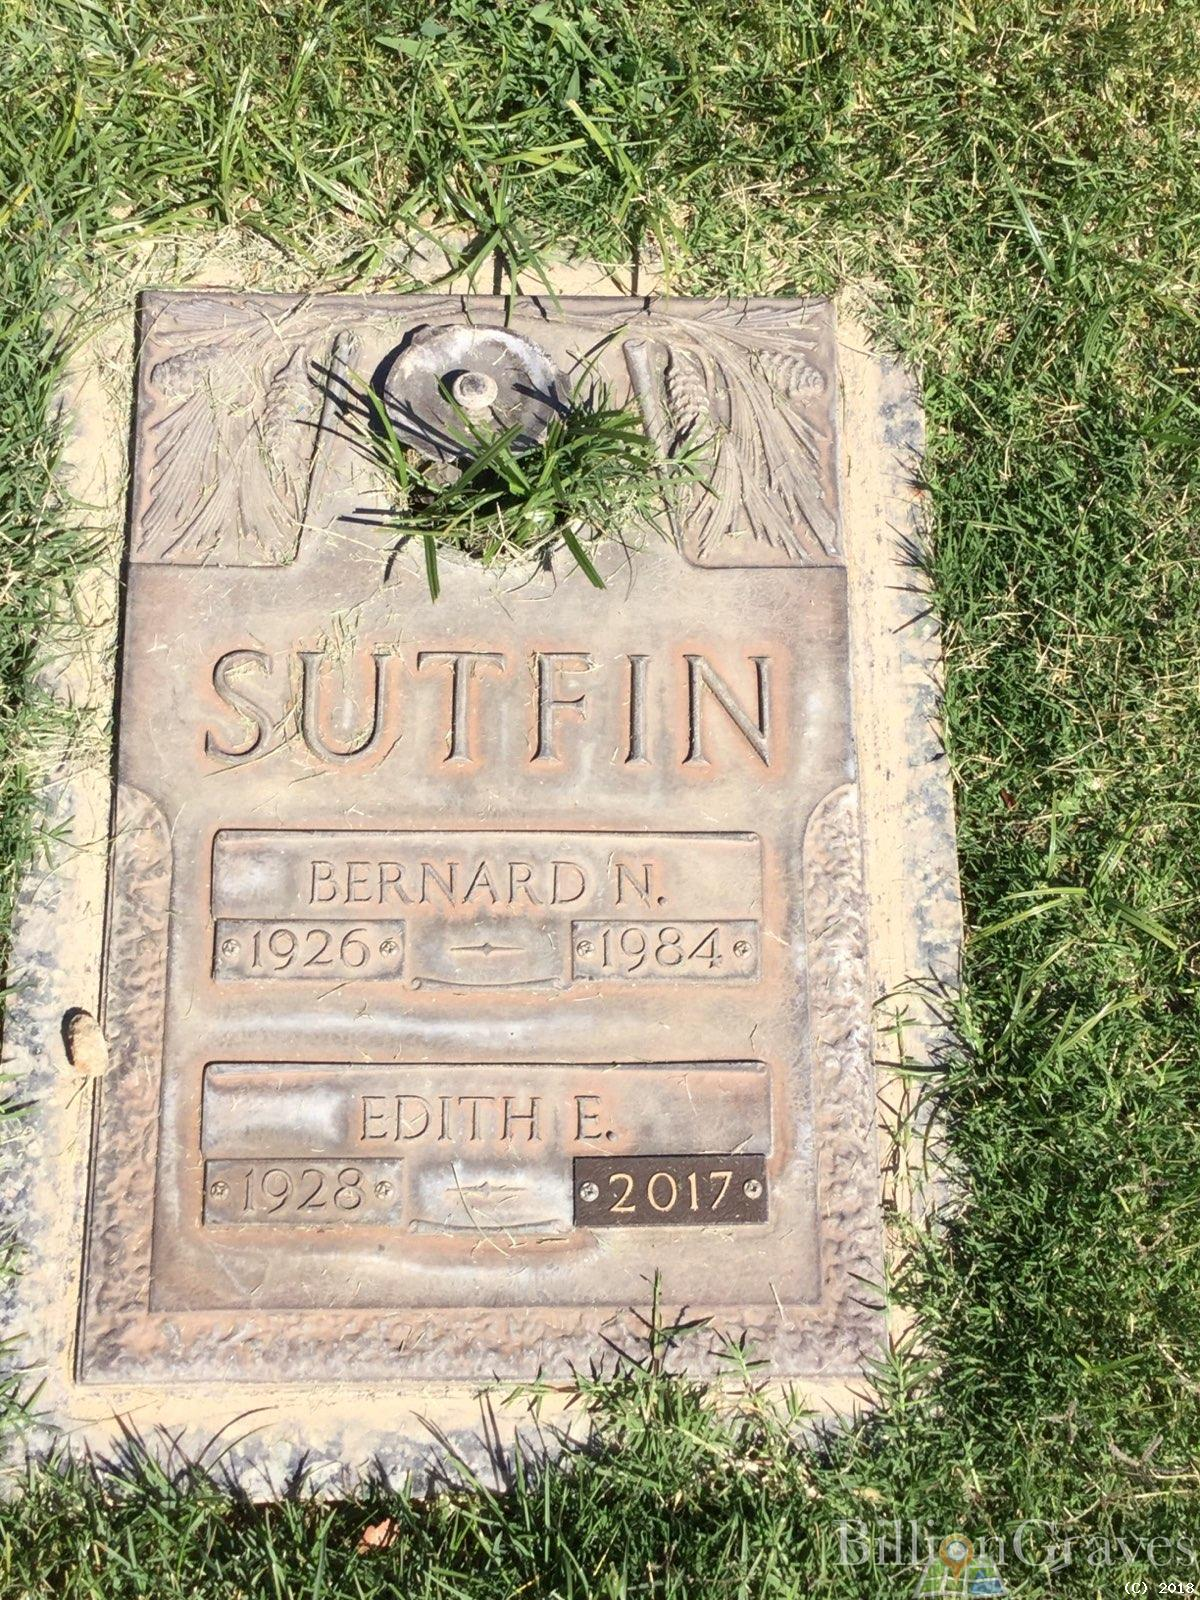flat: (35, 228, 961, 1456)
